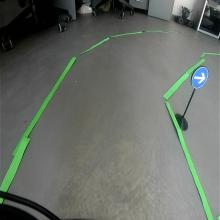right: (190, 66, 210, 89)
